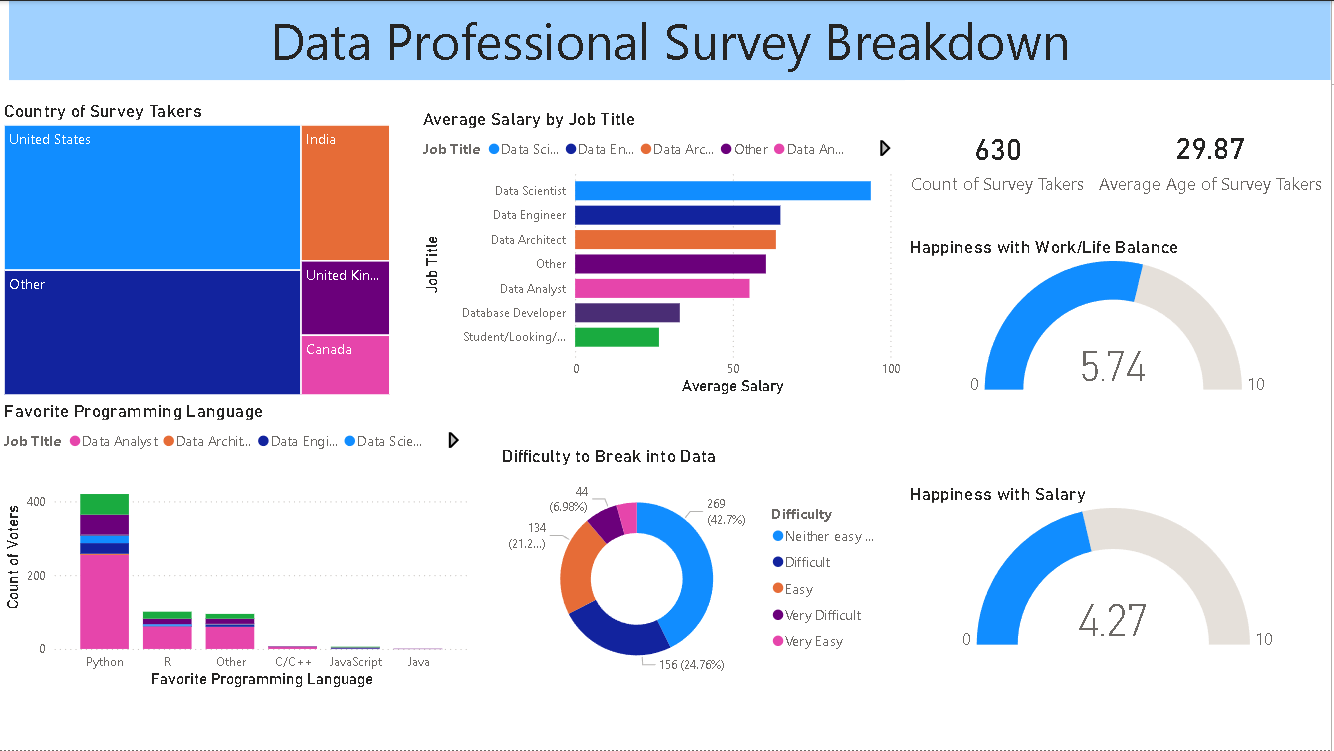

Layout of this report page (visuals, bound fields, positions):
{"tool":"powerbi","page":{"name":"Page 1","canvas":[1280,720],"ordinal":0},"visuals":[{"type":"textbox","box":[9.7,0,1270.3,75.9],"z":0},{"type":"card","fields":{"Values":["CountNonNull(Data Professional Survey.Unique ID)"]},"box":[870.6,75.9,177.8,149.9],"z":1},{"type":"card","fields":{"Values":["Avg(Data Professional Survey.Q10 - Current Age)"]},"box":[1048.5,75.9,231.5,149.8],"z":2},{"type":"barChart","title":"Average Salary by Job Title","fields":{"Category":["Data Professional Survey.Q1 - Which Title Best Fits your Current Role?.1"],"Y":["Avg(Data Professional Survey.Average Salary)"],"Series":["Data Professional Survey.Q1 - Which Title Best Fits your Current Role?.1"]},"box":[402.6,102.8,468,280.6],"z":3},{"type":"columnChart","title":"Favorite Programming Language","fields":{"Category":["Data Professional Survey.Q5 - Favorite Programming Language.1"],"Y":["CountNonNull(Data Professional Survey.Unique ID)"],"Series":["Data Professional Survey.Q1 - Which Title Best Fits your Current Role?.1"]},"box":[0,383.4,456.5,281.6],"z":4},{"type":"treemap","title":"Country of Survey Takers","fields":{"Group":["Data Professional Survey.Q11 - Which Country do you live in?.1"],"Values":["CountNonNull(Data Professional Survey.Q11 - Which Country do you live in?.1)"]},"box":[0,95.1,380.5,288.3],"z":5},{"type":"gauge","title":"Happiness with Work/Life Balance","fields":{"Y":["Avg(Data Professional Survey.Q6 - How Happy are you in your Current Position with the following? (Work/Life Balance))"],"MinValue":["Min(Data Professional Survey.Q6 - How Happy are you in your Current Position with the following? (Work/Life Balance))"],"MaxValue":["Max(Data Professional Survey.Q6 - How Happy are you in your Current Position with the following? (Work/Life Balance))"]},"box":[870.6,225.8,409.4,157.6],"z":6},{"type":"gauge","title":"Happiness with Salary","fields":{"Y":["Avg(Data Professional Survey.Q6 - How Happy are you in your Current Position with the following? (Salary))"],"MinValue":["Min(Data Professional Survey.Q6 - How Happy are you in your Current Position with the following? (Salary))"],"MaxValue":["Max(Data Professional Survey.Q6 - How Happy are you in your Current Position with the following? (Salary))"]},"box":[870.6,463.2,409.4,165.3],"z":7},{"type":"donutChart","title":"Difficulty to Break into Data","fields":{"Y":["CountNonNull(Data Professional Survey.Q7 - How difficult was it for you to break into Data?)"],"Category":["Data Professional Survey.Q7 - How difficult was it for you to break into Data?"]},"box":[478.6,426.7,380.5,238.3],"z":8}]}

Visuals, with their boxes in screenshot pixels (x1, y1, x2, y2), scaled from the page's 1280x720 canvas onto the 1334x751 screenshot:
textbox: (10,0,1333,79)
card - CountNonNull(Data Professional Survey.Unique ID): (907,79,1093,236)
card - Avg(Data Professional Survey.Q10 - Current Age): (1093,79,1333,235)
"Average Salary by Job Title" barChart: (420,107,907,400)
"Favorite Programming Language" columnChart: (0,400,476,694)
"Country of Survey Takers" treemap: (0,99,397,400)
"Happiness with Work/Life Balance" gauge: (907,236,1333,400)
"Happiness with Salary" gauge: (907,483,1333,656)
"Difficulty to Break into Data" donutChart: (499,445,895,694)
